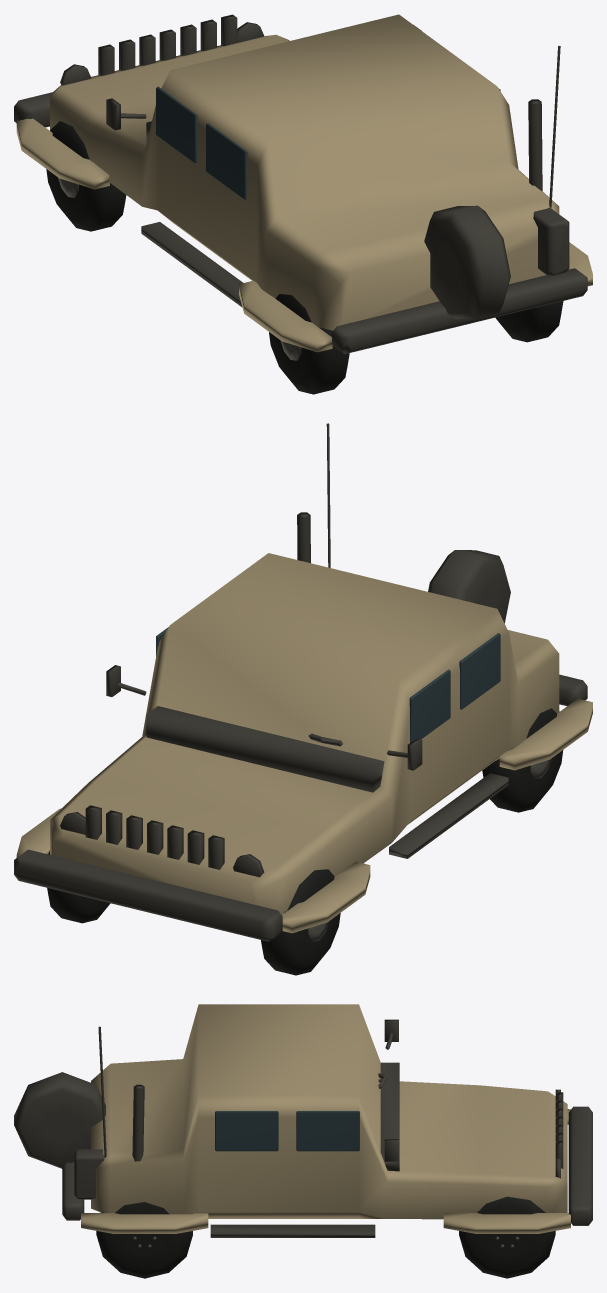
File: military_car.glb
3 renders of one model, top to bottom at view 1: azimuth 30°, elevation 25°; view 2: azimuth 150°, elevation 25°; view 3: azimuth 270°, elevation 25°, orthographic. The views are drawn at different scales.
Parts seen in each view (by area): view 1: Hull, Trim, Glass, Wheel_FL_Tyre, Wheel_RL_Tyre, Wheel_RR_Tyre; view 2: Hull, Trim, Glass, Wheel_FL_Tyre, Wheel_RL_Tyre, Wheel_FR_Tyre; view 3: Hull, Trim, Glass, Wheel_FR_Tyre, Wheel_RR_Tyre.
Part boxes in pixels (x1,y1,x2,y2): Hull: (16, 14, 592, 352); Trim: (14, 14, 587, 353); Glass: (156, 86, 500, 199); Wheel_FL_Tyre: (46, 121, 126, 231); Wheel_RL_Tyre: (269, 294, 349, 394); Wheel_RR_Tyre: (495, 301, 563, 342); Hull: (16, 553, 592, 933); Trim: (14, 423, 587, 941); Glass: (156, 627, 500, 742); Wheel_FL_Tyre: (261, 869, 340, 975); Wheel_RL_Tyre: (482, 708, 563, 812); Wheel_FR_Tyre: (47, 850, 110, 923); Hull: (81, 1004, 570, 1233); Trim: (14, 1019, 592, 1237); Glass: (215, 1111, 359, 1151); Wheel_FR_Tyre: (459, 1196, 555, 1278); Wheel_RR_Tyre: (96, 1202, 192, 1278).
Size of the model in its own units: 2.63 by 2.52 by 5.27.
